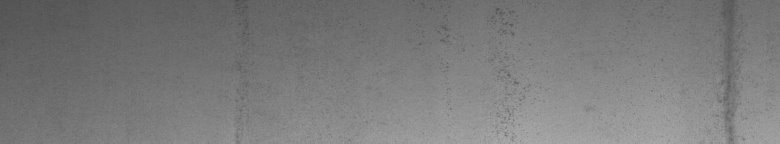ib: (438, 8, 536, 123)
